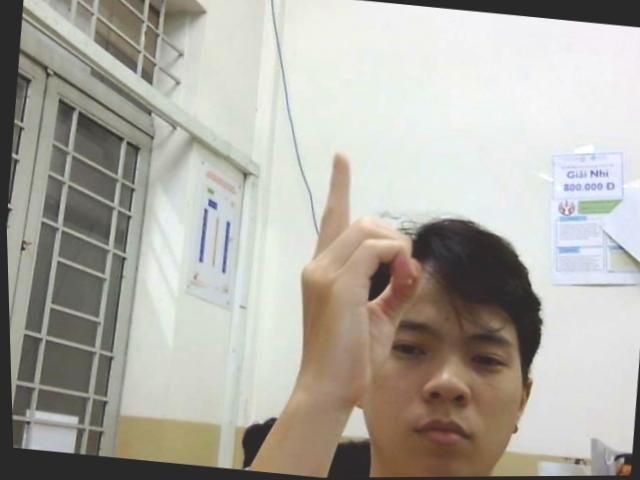D: (283, 147, 436, 405)
